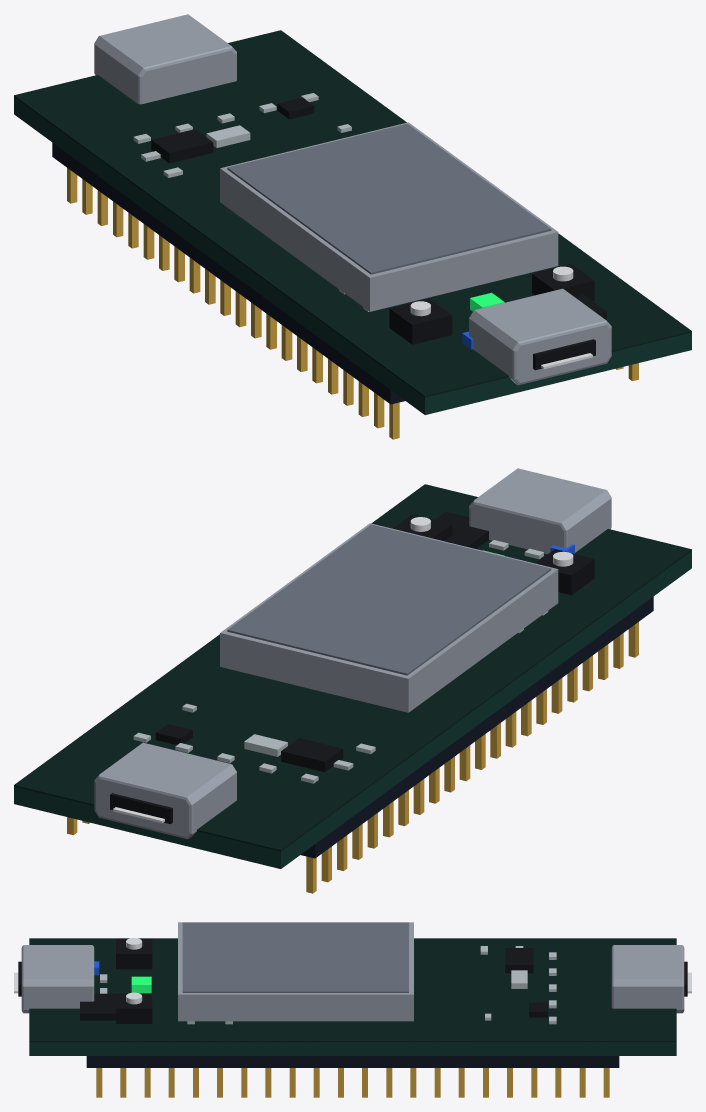
File: reference.glb
The picture shows the model from 3 angles, top to bottom: view 1: azimuth 30°, elevation 25°; view 2: azimuth 150°, elevation 25°; view 3: azimuth 270°, elevation 25°; orthographic projection. The views are drawn at different scales.
Parts seen in each view (by area): view 1: PCB edge, WROOM shield top plate, WROOM metal shield, PCB 25.5x68 mm, ESP32-S3 USB OTG Port Micro-USB metal shell, USB-to-UART Port A Micro-USB metal shell, 2x22 header body, BOOT button, 3V3 LDO package, RESET button, USB-to-UART Port A Micro-USB cavity, crystal package; view 2: PCB edge, WROOM shield top plate, WROOM metal shield, PCB 25.5x68 mm, ESP32-S3 USB OTG Port Micro-USB metal shell, USB-to-UART Port A Micro-USB metal shell, 2x22 header body, 3V3 LDO package, BOOT button, USB-UART bridge, ESP32-S3 USB OTG Port Micro-USB cavity, RESET button (+1 smaller); view 3: PCB edge, WROOM shield top plate, PCB 25.5x68 mm, WROOM metal shield, 2x22 header body, ESP32-S3 USB OTG Port Micro-USB metal shell, USB-to-UART Port A Micro-USB metal shell, BOOT button, RESET button, USB-UART bridge, 3V3 LDO package, WS2812 RGB LED (+2 smaller).
Boxes of the visible parts, x1,y1,x2,y2 form: PCB edge: (14,30,691,397); WROOM shield top plate: (227,123,551,274); WROOM metal shield: (220,122,558,311); PCB 25.5x68 mm: (14,97,691,414); ESP32-S3 USB OTG Port Micro-USB metal shell: (94,14,236,104); USB-to-UART Port A Micro-USB metal shell: (469,288,611,385); 2x22 header body: (52,142,404,404); BOOT button: (389,298,452,344); 3V3 LDO package: (151,129,213,163); RESET button: (532,264,594,300); USB-to-UART Port A Micro-USB cavity: (533,339,595,370); crystal package: (206,125,250,147); PCB edge: (14,484,691,851); WROOM shield top plate: (227,524,551,675); WROOM metal shield: (220,523,558,712); PCB 25.5x68 mm: (14,551,691,868); ESP32-S3 USB OTG Port Micro-USB metal shell: (94,742,236,839); USB-to-UART Port A Micro-USB metal shell: (469,468,611,554); 2x22 header body: (301,596,653,858); 3V3 LDO package: (281,738,343,772); BOOT button: (535,549,594,595); USB-UART bridge: (435,511,488,548); ESP32-S3 USB OTG Port Micro-USB cavity: (110,793,172,824); RESET button: (393,514,452,541); PCB edge: (29,938,676,1042); WROOM shield top plate: (182,922,408,992); PCB 25.5x68 mm: (29,1042,676,1055); WROOM metal shield: (178,922,413,1021); 2x22 header body: (86,1056,619,1067); ESP32-S3 USB OTG Port Micro-USB metal shell: (611,945,684,1013); USB-to-UART Port A Micro-USB metal shell: (21,945,94,1013); BOOT button: (116,938,152,969); RESET button: (116,993,152,1023); USB-UART bridge: (80,993,115,1020); 3V3 LDO package: (505,948,533,973); WS2812 RGB LED: (131,976,151,993).
Bounding box in the file's own units: 25.5 × 10.82 × 71.25.
